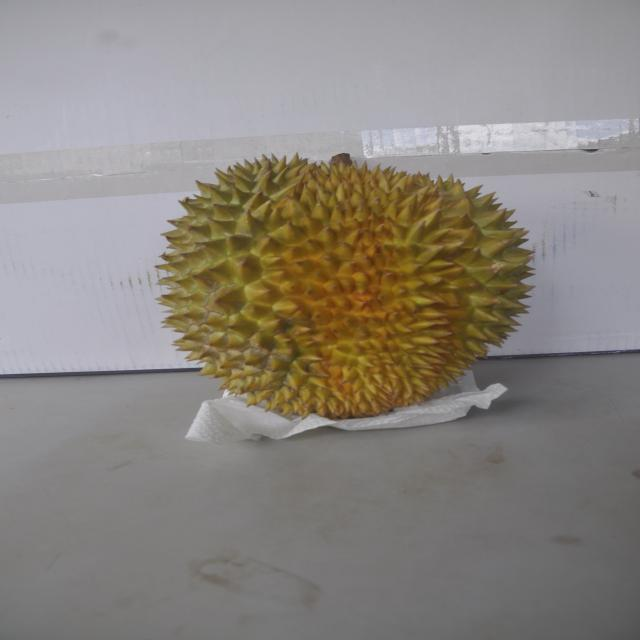mature: (154, 151, 533, 418)
